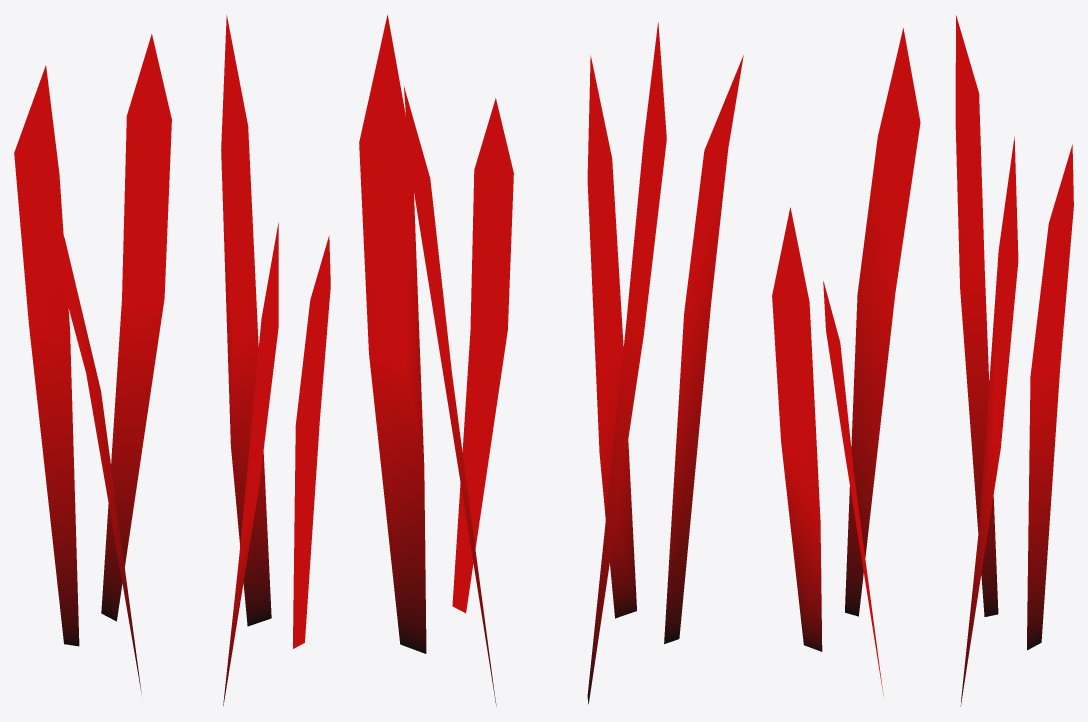
The model's file is Reeds5.fbx.
The picture shows the model from 3 angles, left to right: view 1: azimuth 30°, elevation 25°; view 2: azimuth 150°, elevation 25°; view 3: azimuth 270°, elevation 25°; orthographic projection. The views are drawn at different scales.
Visible parts, largest first — view 1: Reeds5; view 2: Reeds5; view 3: Reeds5.
Boxes of the visible parts, x1,y1,x2,y2 form: Reeds5: (14,15,330,705); Reeds5: (359,15,743,704); Reeds5: (772,15,1073,706).
Bounding box in the file's own units: 53.97 × 111 × 51.67.
